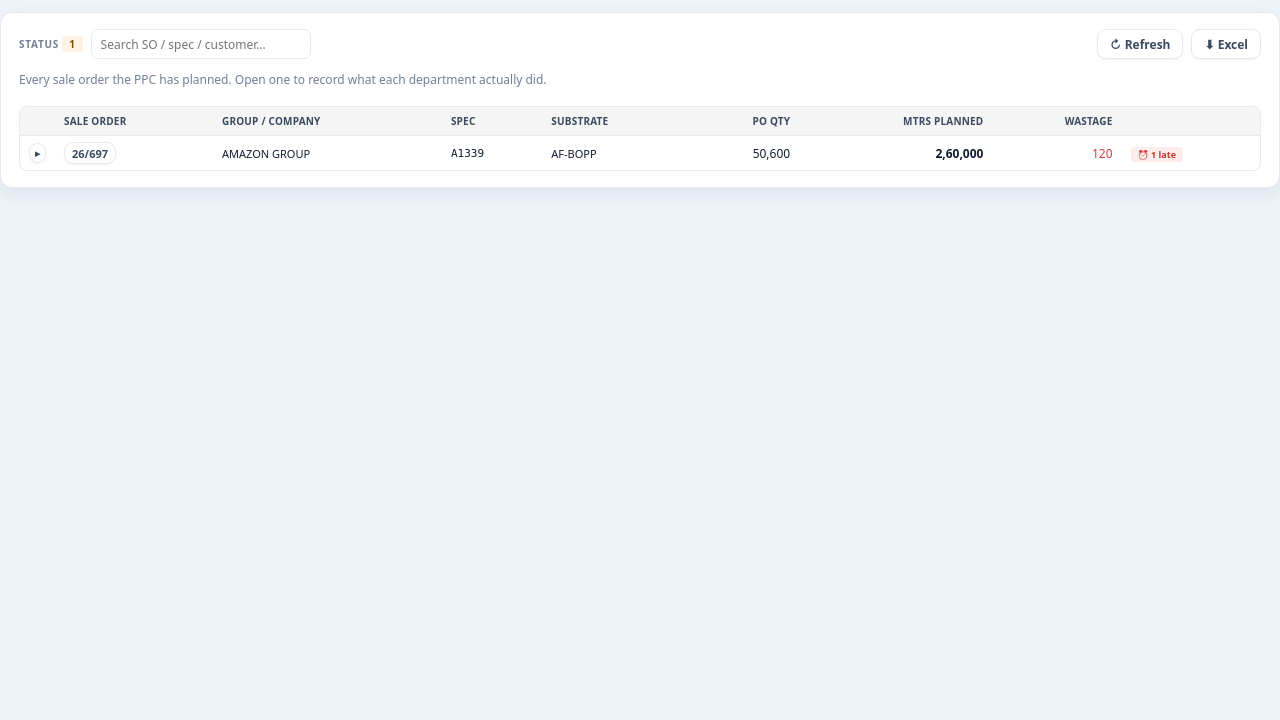
MIS Status board › opens into a column per department of the route
Click the button named "Open 26/697": (90, 153) [64, 142, 116, 164]
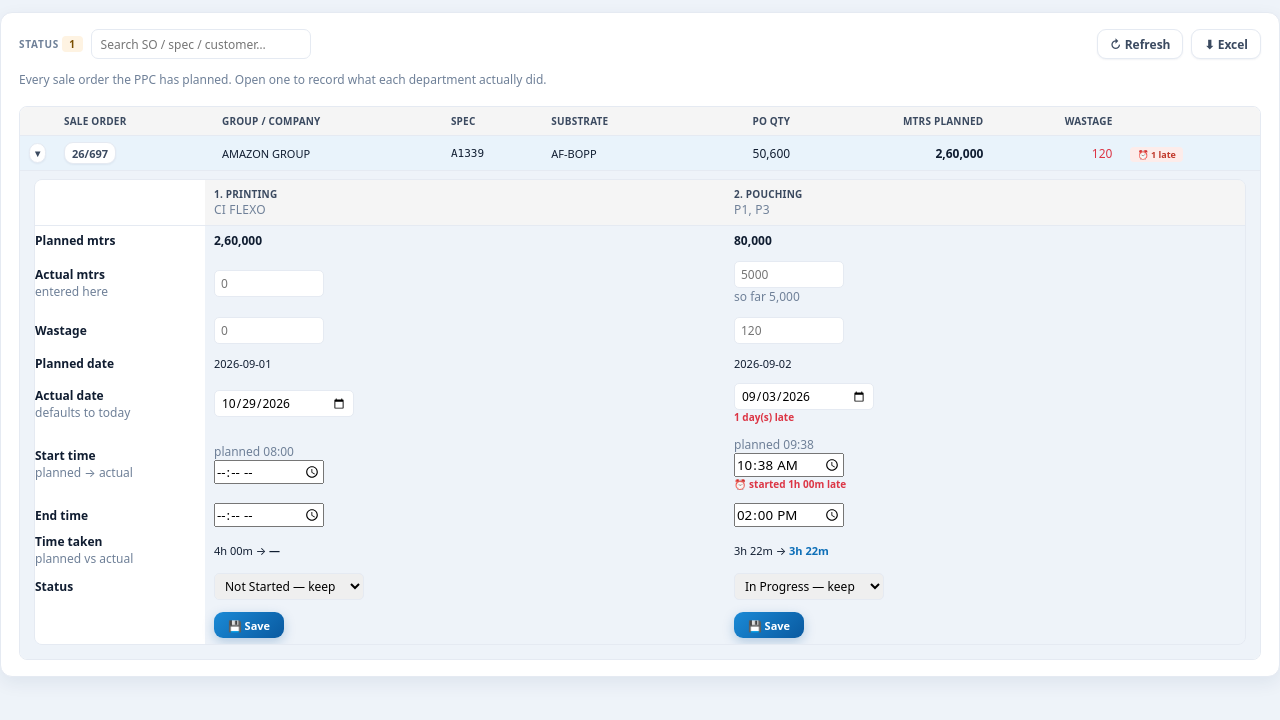
Check: the column heading "1. Printing CI Flexo" is shown, box [205, 180, 725, 226]
Check: the column heading "2. Pouching P1, P3" is shown, box [725, 180, 1245, 226]
Check: the text "CI Flexo" is shown, box [214, 201, 266, 218]
